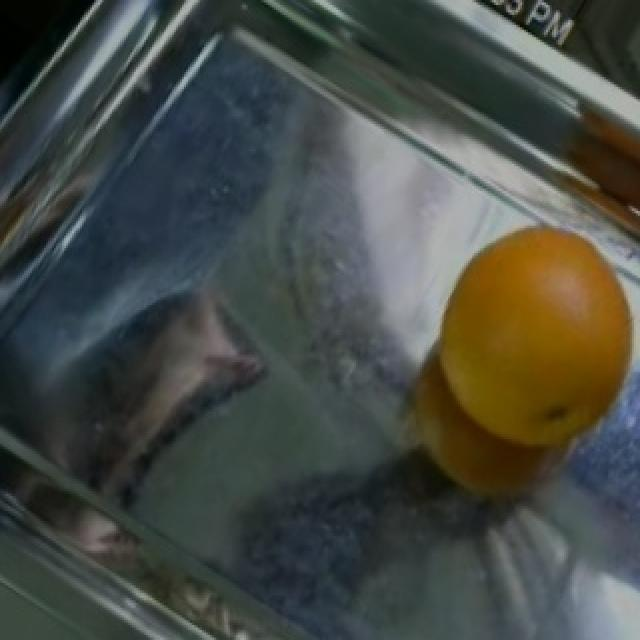Fruit: (404, 211, 640, 476)
